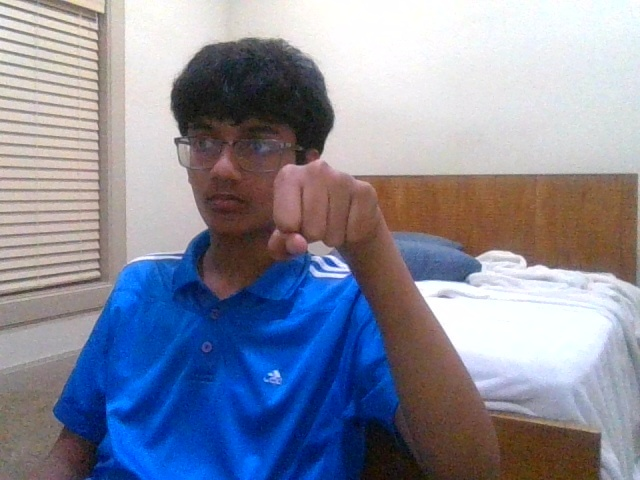yes: (268, 160, 378, 259)
